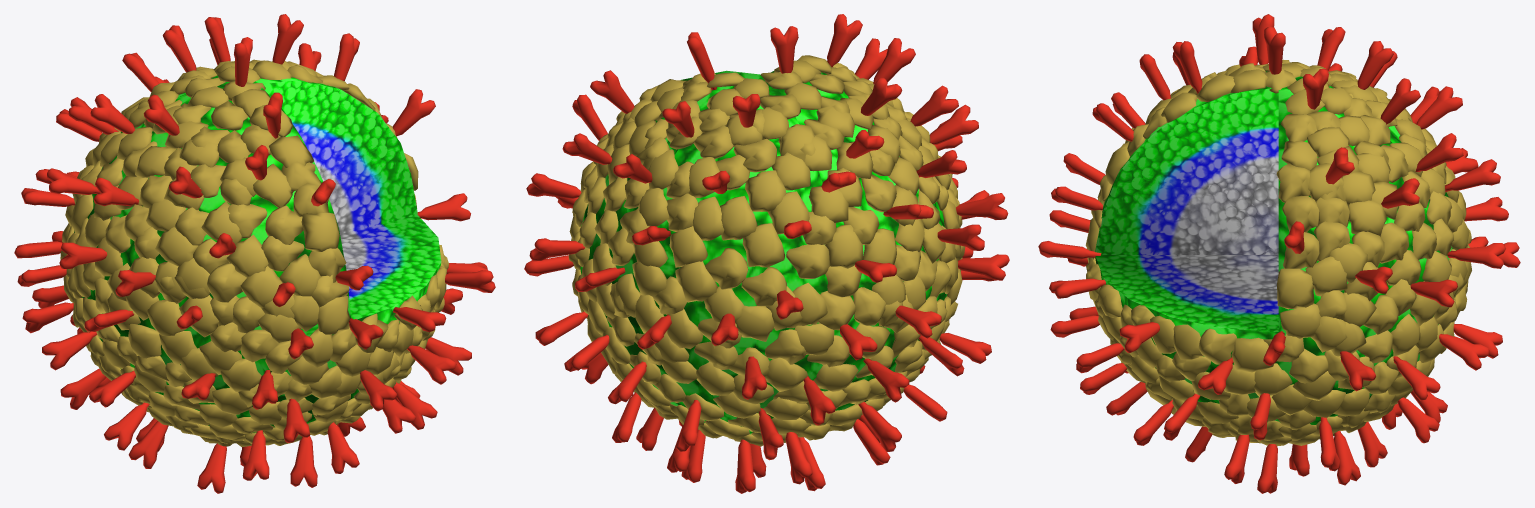
3 views of the same model, side by side, from view 1: azimuth 30°, elevation 25°; view 2: azimuth 150°, elevation 25°; view 3: azimuth 270°, elevation 25° (orthographic). The views are drawn at different scales.
Visible parts, largest first — view 1: Icosphere.002, land.132, land.216, land.217, land.224, land.124, land.131, land.220, land.298, land.230, stick.097, land.310 (+103 smaller); view 2: Icosphere.002, land.086, land.082, land.080, land.164, land.175, land.183, land.184, land.181, land.084, land.294, land.028 (+124 smaller); view 3: Icosphere.002, land.360, land.134, land.050, land.362, land.138, land.047, land.045, land.359, land.139, stick.059, land.365 (+94 smaller).
Part boxes in pixels (box(x1,y1,x2,y2)): Icosphere.002: box(74, 75, 441, 433); land.132: box(301, 212, 339, 251); land.216: box(226, 234, 268, 277); land.217: box(207, 263, 246, 302); land.224: box(279, 254, 320, 296); land.124: box(253, 163, 293, 207); land.131: box(265, 205, 303, 244); land.220: box(240, 266, 282, 308); land.298: box(155, 227, 198, 266); land.230: box(317, 296, 350, 334); stick.097: box(42, 331, 97, 370); land.310: box(147, 299, 186, 335); Icosphere.002: box(580, 70, 946, 434); land.086: box(742, 223, 785, 267); land.082: box(745, 170, 786, 211); land.080: box(720, 196, 757, 240); land.164: box(675, 261, 717, 302); land.175: box(705, 248, 748, 289); land.183: box(786, 244, 829, 278); land.184: box(825, 225, 863, 268); land.181: box(741, 267, 786, 306); land.084: box(669, 226, 707, 267); land.294: box(735, 305, 774, 341); land.028: box(809, 186, 848, 222); Icosphere.002: box(1095, 71, 1455, 424); land.360: box(1277, 268, 1314, 309); land.134: box(1305, 256, 1347, 296); land.050: box(1348, 199, 1386, 236); land.362: box(1231, 337, 1273, 372); land.138: box(1280, 303, 1321, 338); land.047: box(1282, 196, 1319, 232); land.045: box(1276, 163, 1310, 202); land.359: box(1198, 328, 1237, 364); land.139: box(1313, 221, 1350, 261); stick.059: box(1445, 159, 1500, 192); land.365: box(1289, 348, 1328, 383).
Bounding box in the file's own units: 0.496 × 0.5 × 0.5027.
3 materials, 1 textured.
